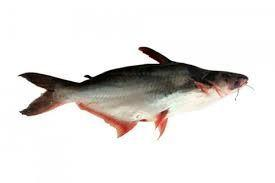Pangasius: (16, 44, 251, 142)
